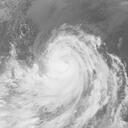cyclone: (19, 23, 105, 111)
